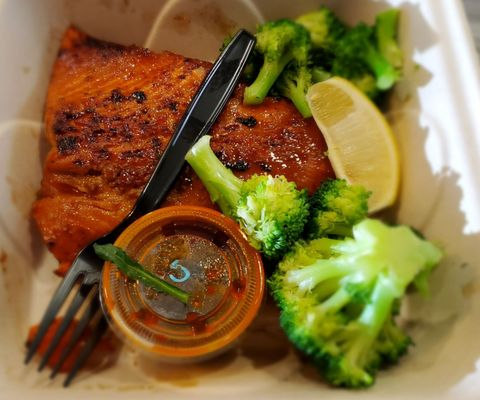curry: (266, 217, 445, 388), (243, 8, 403, 119), (185, 137, 311, 260)
sandwich: (126, 28, 255, 226)
sushi: (101, 204, 266, 366)
